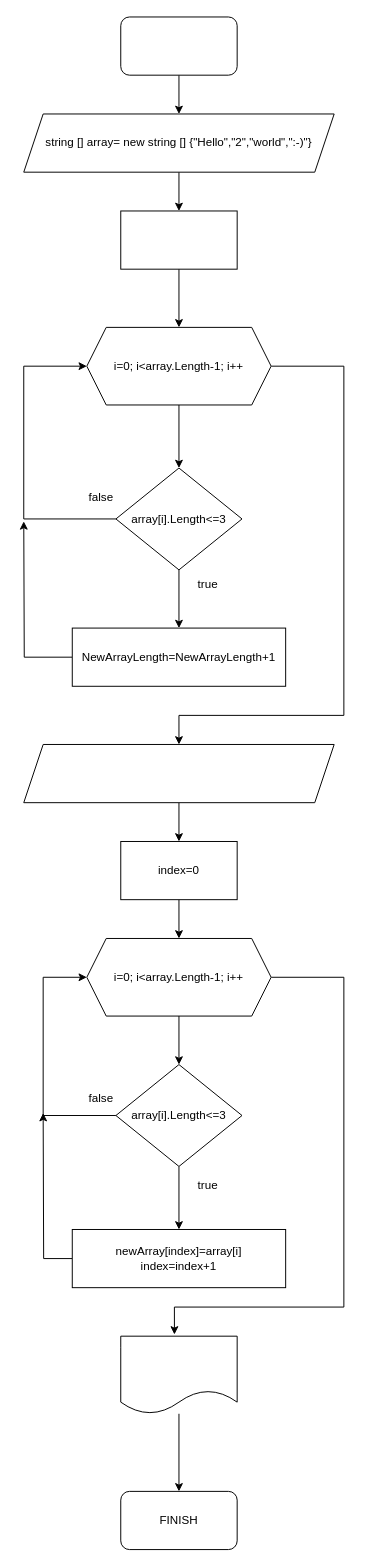
Some shapes in this 369 by 1567 pixel diagram are drawn without their labels. Here are the shapes that lost their labels. From the top down, the box of each, then its label:
(120, 16, 237, 75): START
(120, 210, 237, 269): NewArrayLength=0
(23, 744, 334, 803): string [] newArray= new string [NewArrayLength]
(120, 1335, 237, 1414): array -> newArray
